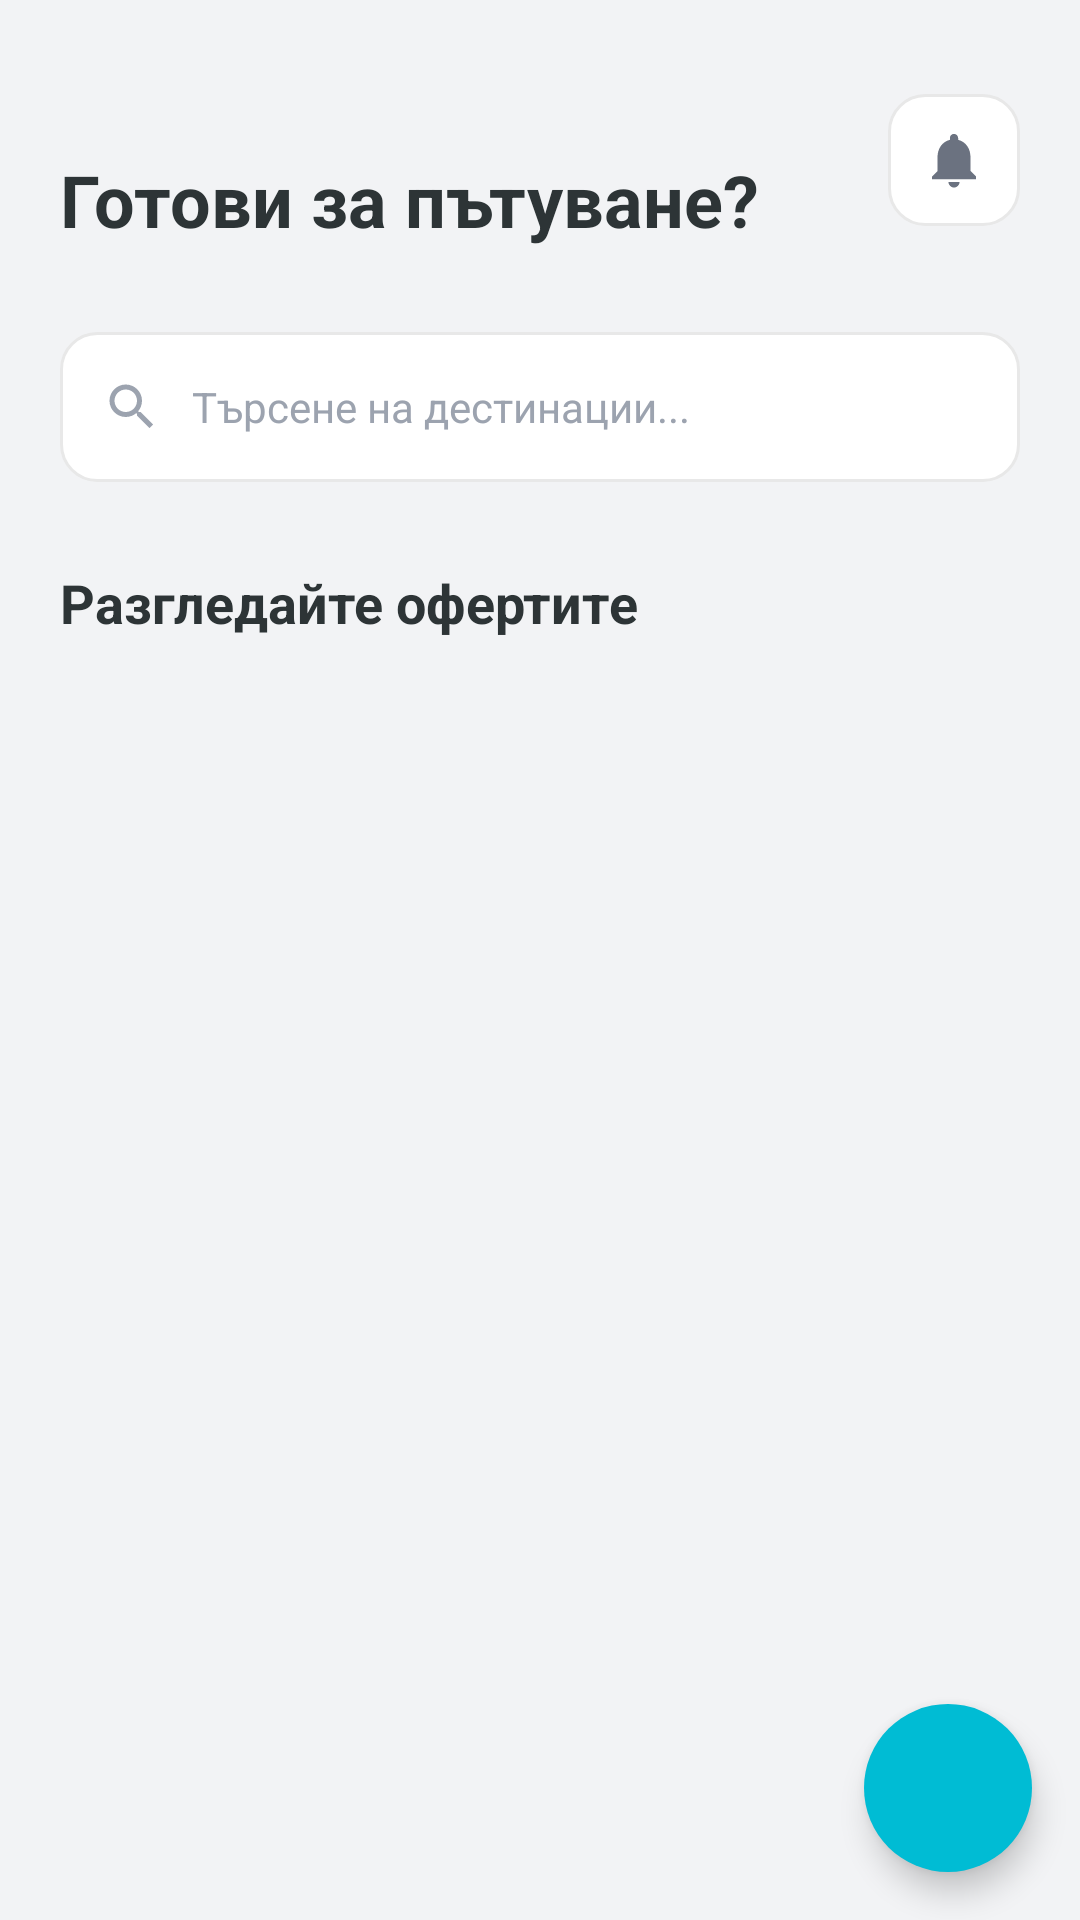

Named icons in this screenshot (1080×1920) and their bounding boxes, box=[x1, y1, x2, y2]:
search: box=[109, 384, 153, 428]
Преглед на известията: box=[932, 134, 976, 188]
